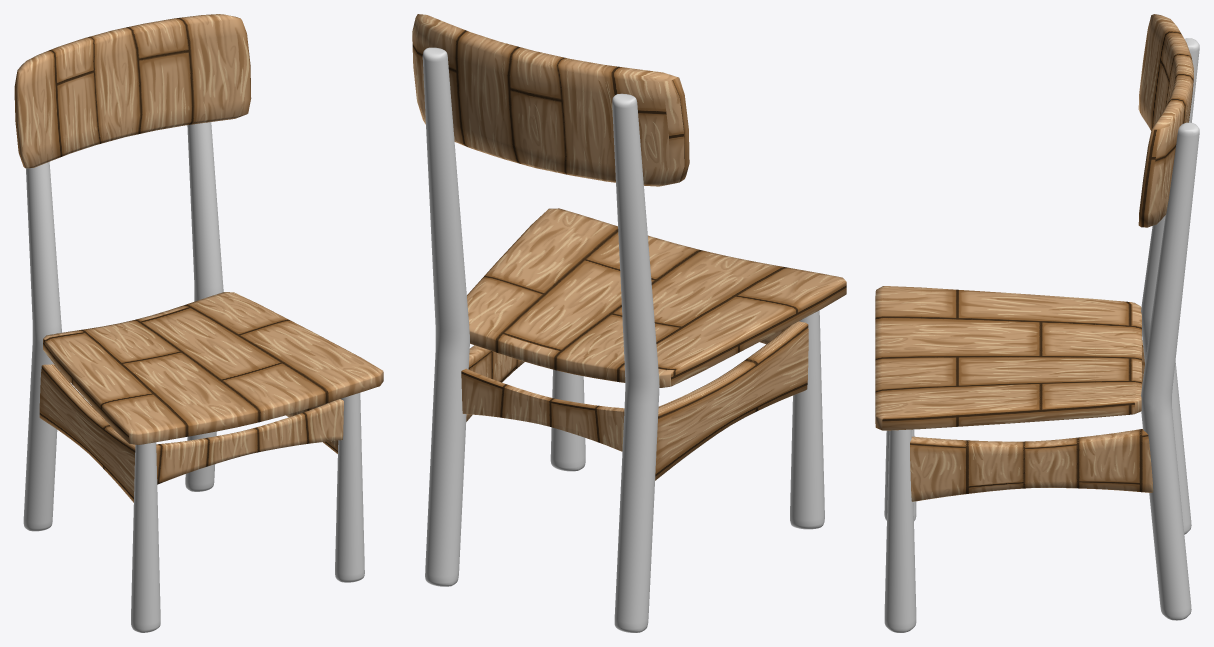
Rendered from Chair2.fbx.
3 views of the same model, side by side, from view 1: azimuth 30°, elevation 25°; view 2: azimuth 150°, elevation 25°; view 3: azimuth 270°, elevation 25° (orthographic). The views are drawn at different scales.
Parts seen in each view (by area): view 1: chairbridge2; view 2: chairbridge2; view 3: chairbridge2.
Boxes of the visible parts, x1,y1,x2,y2 form: chairbridge2: (14, 14, 383, 632); chairbridge2: (412, 14, 846, 632); chairbridge2: (875, 14, 1199, 632).
Bounding box in the file's own units: 80.19 × 143 × 82.9.
2 materials, 1 textured.
